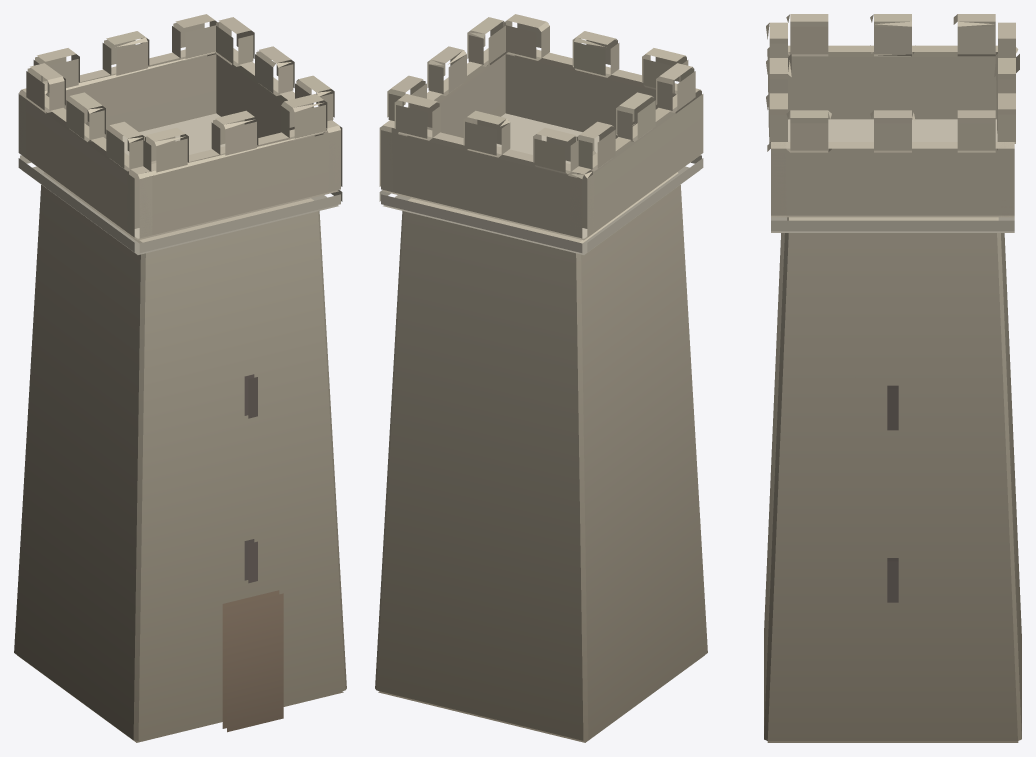
File: iv_tower.lod.glb
3 views of the same model, side by side, from view 1: azimuth 30°, elevation 25°; view 2: azimuth 150°, elevation 25°; view 3: azimuth 270°, elevation 25° (orthographic). The views are drawn at different scales.
Parts seen in each view (by area): view 1: iv_tower; view 2: iv_tower; view 3: iv_tower.
Part boxes in pixels (x1,y1,x2,y2): iv_tower: (14,14,346,742); iv_tower: (375,14,707,742); iv_tower: (764,14,1021,742).
Bounding box in the file's own units: 3.7 × 9.05 × 3.76.
